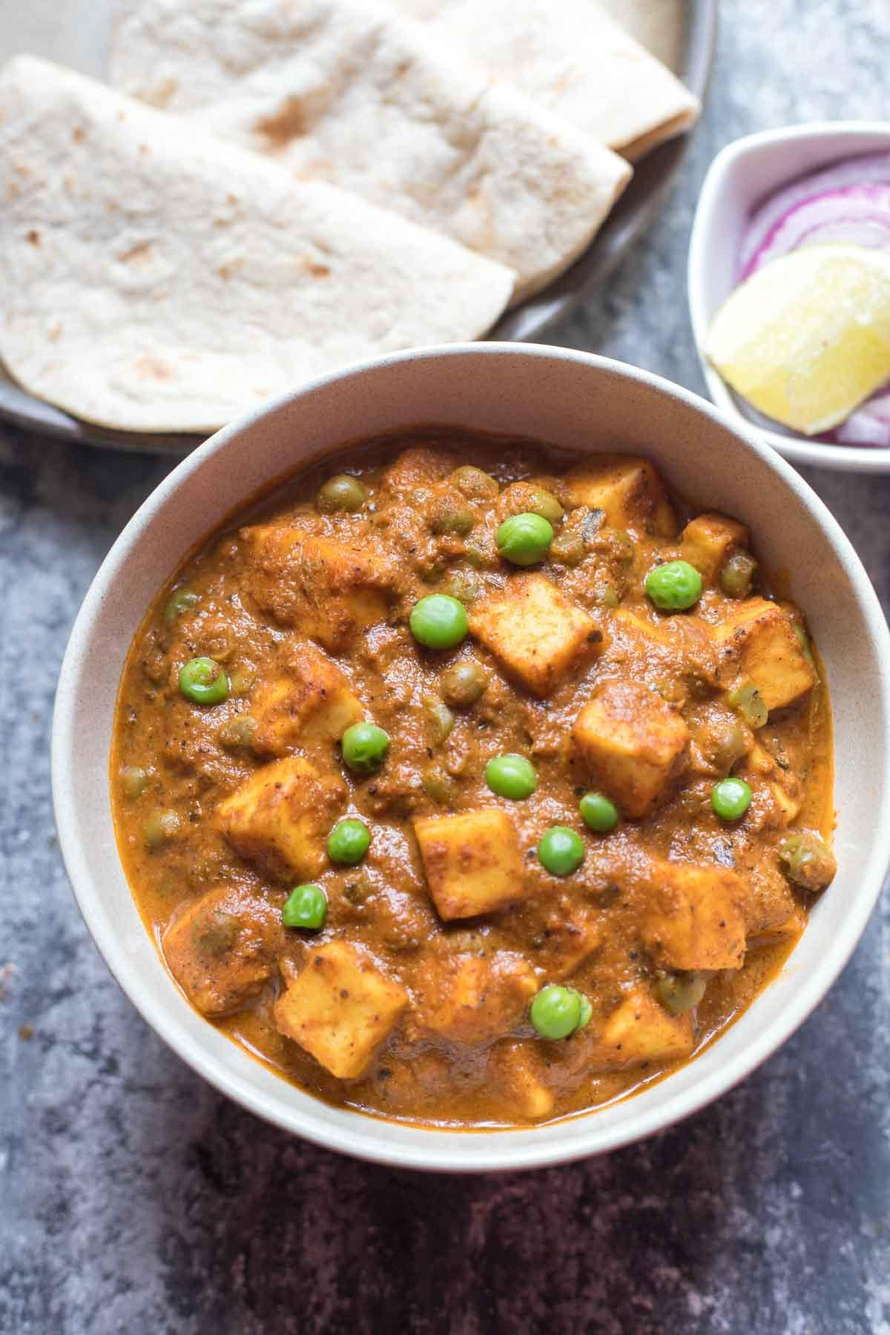paneer: (268, 583, 715, 1005)
roti: (0, 49, 424, 334)
